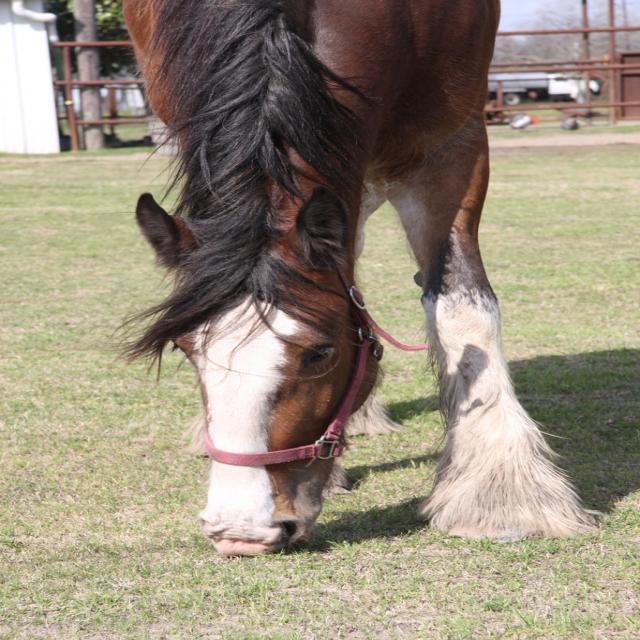Horse: (100, 0, 607, 554)
